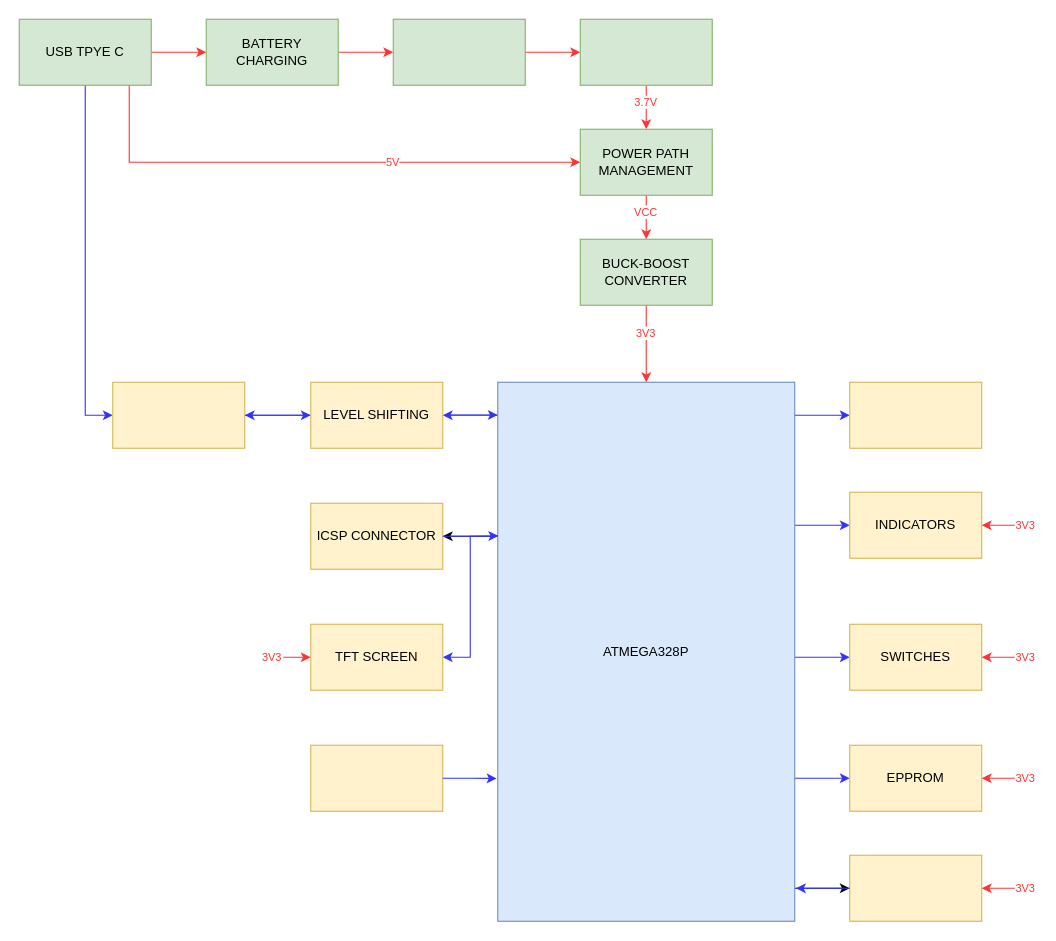
Image size: 1056x941. Some labels were removed from this diagram. Each missing label, with the centre of its shape:
"BATTERY" belongs at (x=645, y=51).
"BATTERY MANAGEMENT SYSTEM" belongs at (x=458, y=51).
"CONNECTORS" belongs at (x=915, y=414).
"OSCILLATOR" belongs at (x=376, y=777).
"RAK3172" belongs at (x=915, y=887).
"USB TO UART CONVERTER" belongs at (x=178, y=414).
